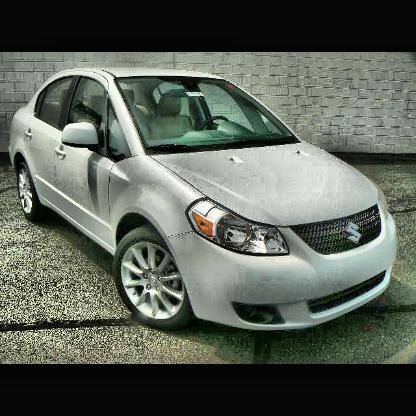Suzuki SX4 Sedan 2012: (8, 62, 404, 339)
